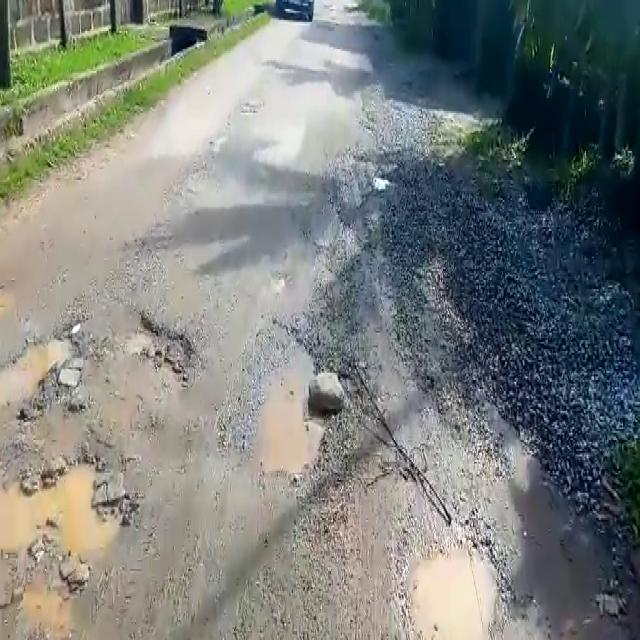Pothole: (226, 322, 327, 473), (4, 454, 134, 556), (400, 539, 508, 640), (3, 310, 89, 415), (124, 312, 193, 386)
